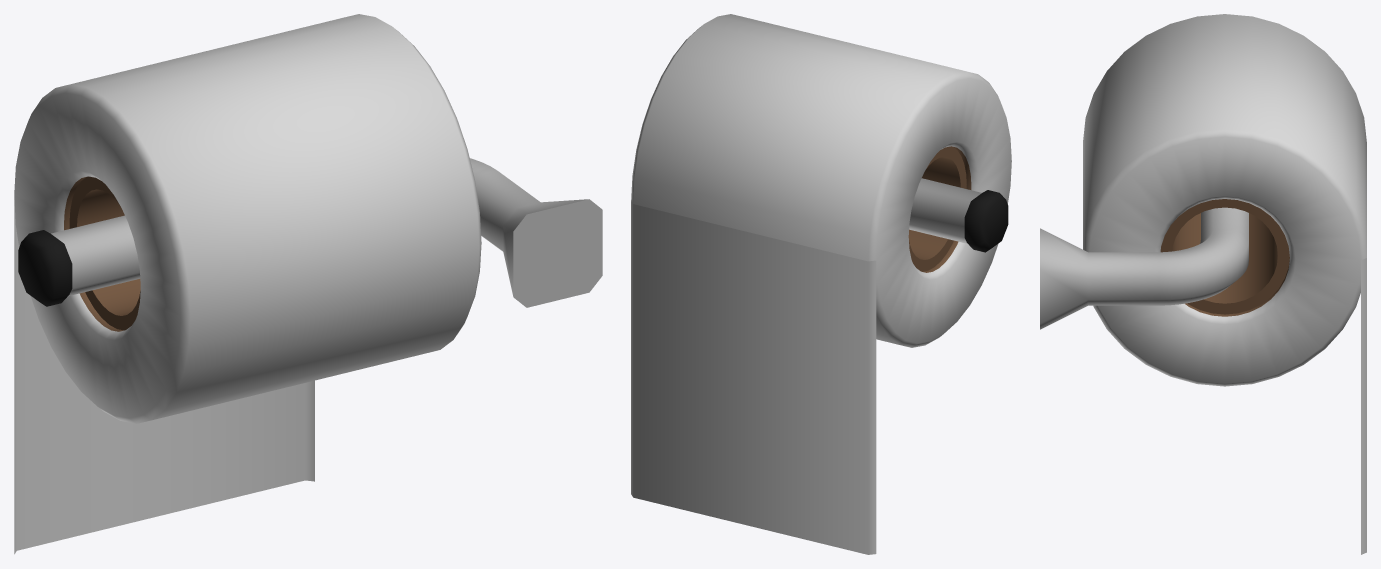
The model's file is toilet-roll-dispenser.glb.
3 renders of one model, left to right at view 1: azimuth 30°, elevation 25°; view 2: azimuth 150°, elevation 25°; view 3: azimuth 270°, elevation 25°, orthographic. The views are drawn at different scales.
Visible parts, largest first — view 1: Object_36, Object_35; view 2: Object_36, Object_35; view 3: Object_36, Object_35.
Part boxes in pixels (box(x1,y1,x2,y2)): Object_36: box(14, 14, 481, 554); Object_35: box(51, 158, 602, 307); Object_36: box(631, 14, 1011, 554); Object_35: box(909, 178, 981, 243); Object_36: box(1083, 14, 1366, 554); Object_35: box(1040, 207, 1248, 329).
Bounding box in the file's own units: 0.2672 × 0.2892 × 0.2024.
Materials: 2 (2 with a texture image).
